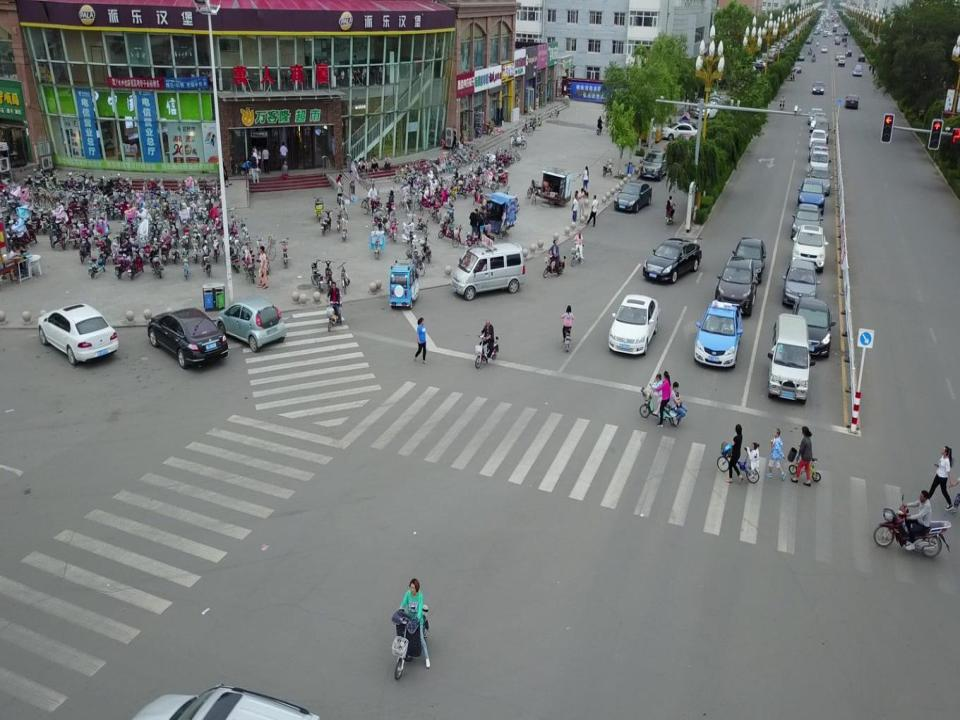car: (146, 306, 228, 369), (38, 302, 118, 366), (216, 296, 286, 352), (694, 299, 742, 369), (608, 294, 658, 356), (790, 296, 836, 358), (642, 237, 702, 284), (714, 256, 756, 317), (781, 260, 821, 308), (791, 224, 828, 273), (732, 236, 767, 284), (790, 203, 824, 243), (614, 181, 652, 214), (796, 178, 824, 215), (640, 147, 668, 181), (807, 150, 831, 182), (662, 122, 698, 142), (807, 168, 831, 195), (808, 139, 830, 165), (812, 118, 831, 143), (695, 102, 719, 121), (808, 130, 827, 150), (809, 111, 826, 133), (807, 108, 822, 124), (844, 94, 859, 108), (812, 81, 825, 94), (852, 64, 862, 77), (858, 53, 866, 62)
truck: (623, 116, 661, 142)
van: (767, 312, 815, 404), (450, 242, 526, 300)
